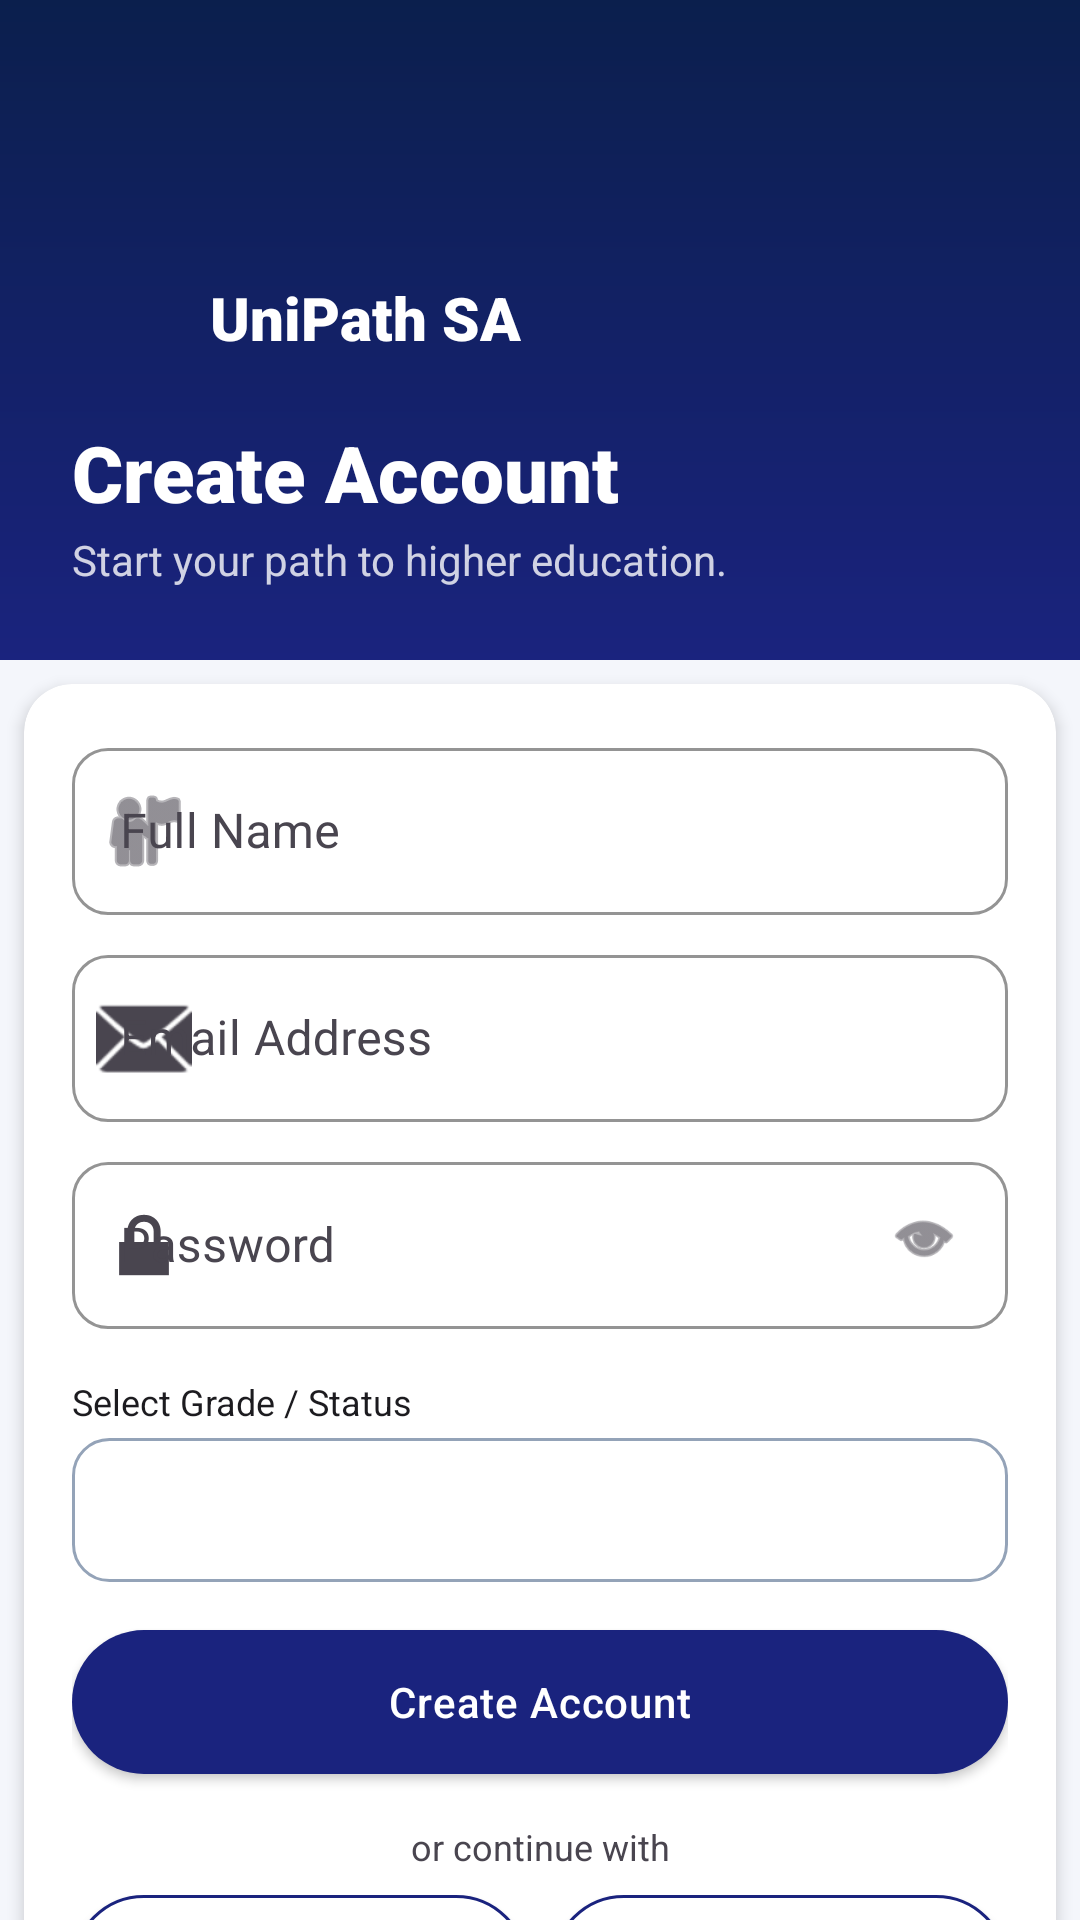

Screen size 1080px×1920px. Icon name, then its box in pixels as (x1, y1, x2, y2):
view: (895, 1220, 953, 1257)
